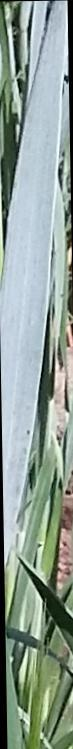Wheat: (0, 98, 60, 502)
